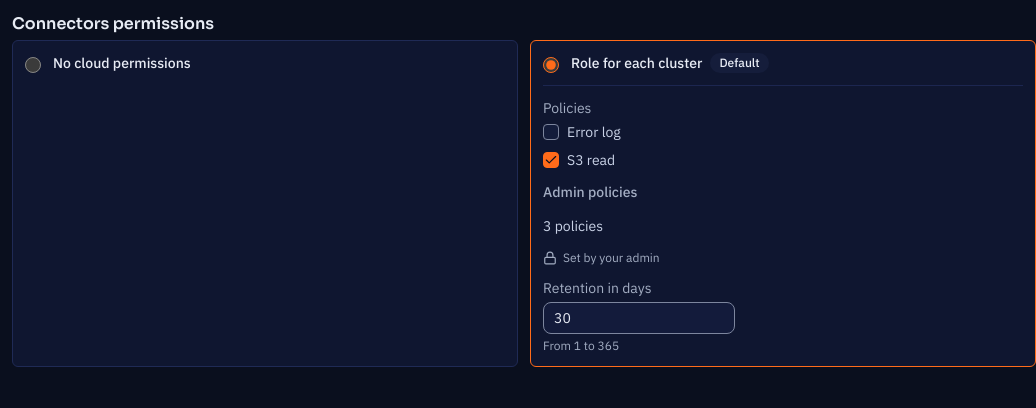
Test: SectionCards › describes an allowed list by its error when a choice is named error
The width and height of the screenshot is (1036, 408).
Click the checkbox named "S3 read".
click(551, 160)  # box [543,152,559,168]
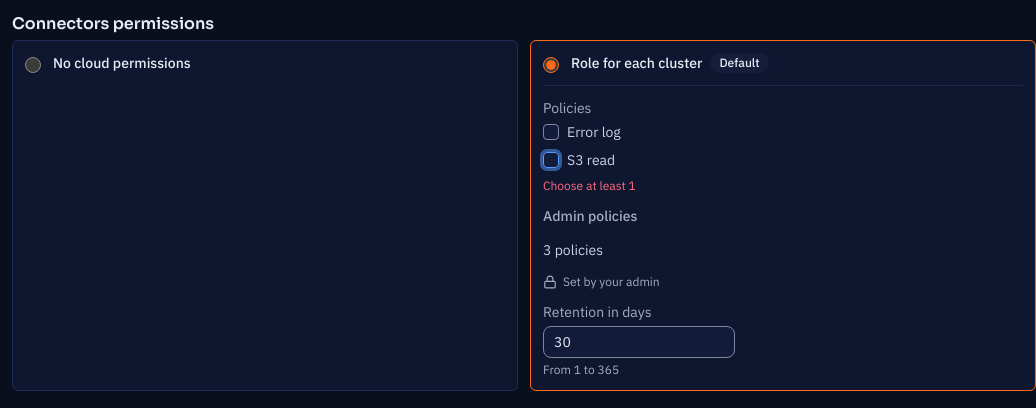
Expected: the text "Choose at least 1" is shown, [543,178,636,193]
